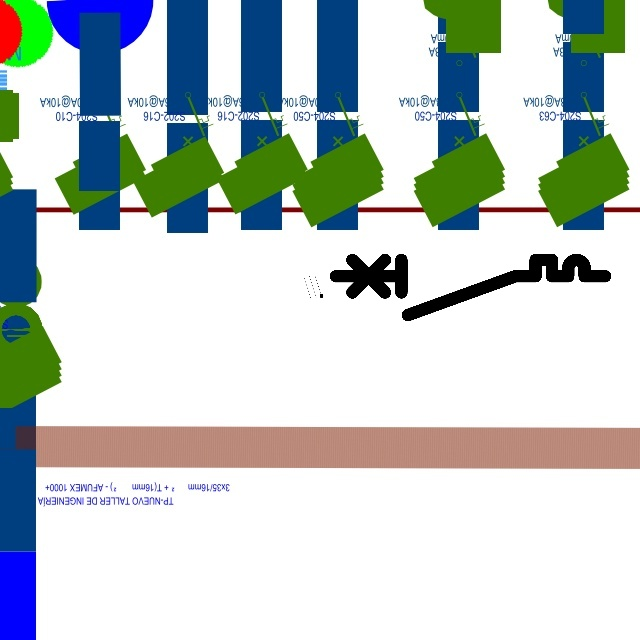interruptor_termomagnetico: (329, 253, 612, 322)
